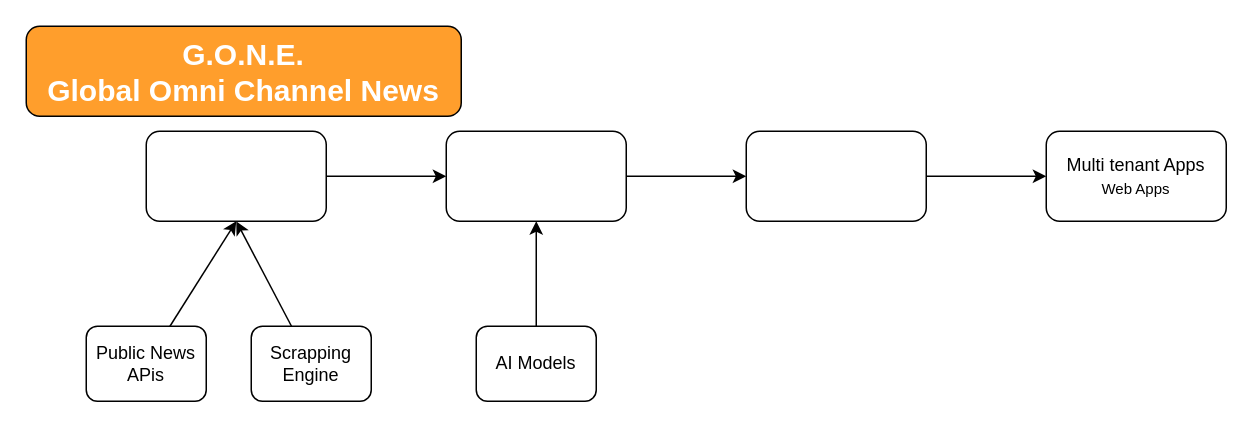
Image size: 1253x428. Some labels were removed from this diagram. Here are the shapes that lost their labels. From the top down, the centre of each, then its label:
the point at 235,175: News Headline Engine
the point at 535,175: News Content Engine
the point at 835,175: News Engine API layer
